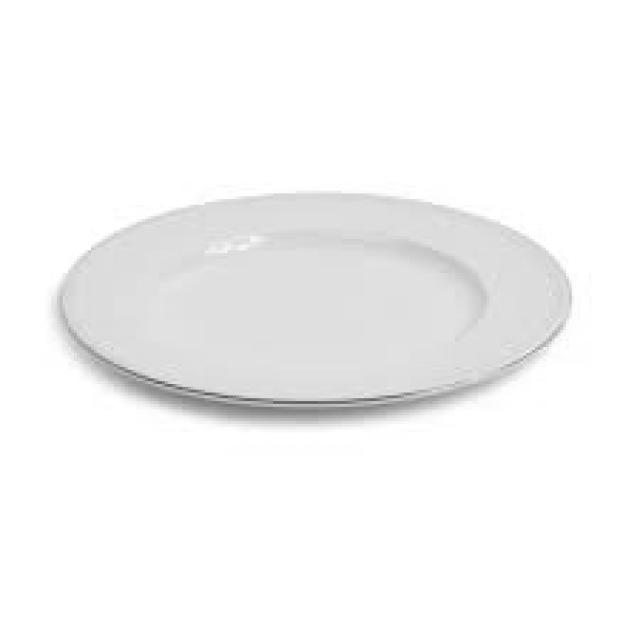dish: (36, 158, 600, 440)
